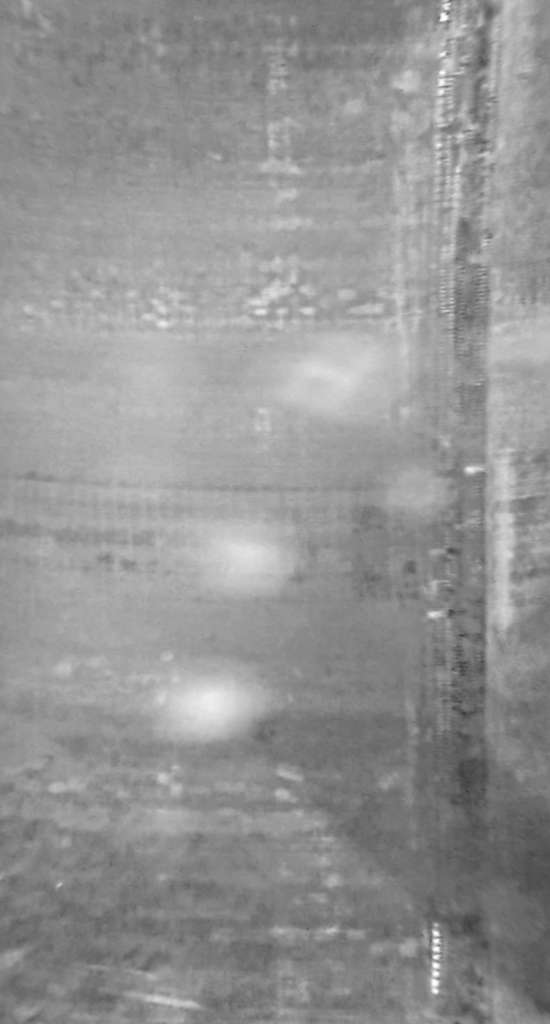splice: (423, 3, 502, 1024)
